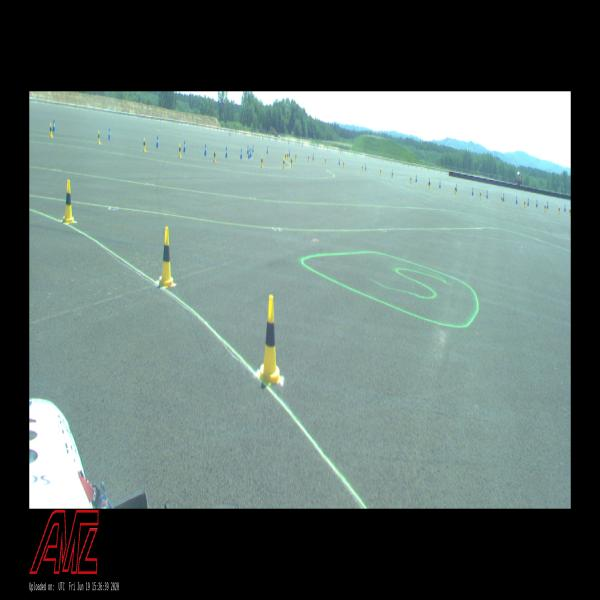blue_cone: (52, 119, 56, 132), (225, 146, 228, 158), (156, 136, 159, 148), (204, 144, 207, 155), (108, 128, 111, 139), (183, 141, 186, 152), (471, 187, 474, 195), (240, 148, 242, 159), (248, 149, 250, 159), (250, 148, 252, 157), (247, 145, 249, 154), (439, 180, 441, 188), (516, 196, 518, 204), (252, 144, 254, 152), (527, 198, 529, 206), (486, 190, 488, 198), (536, 199, 538, 206), (428, 178, 430, 185), (415, 175, 417, 182), (564, 205, 566, 211), (267, 146, 268, 154), (503, 194, 504, 202), (456, 184, 457, 192), (547, 202, 548, 209), (339, 158, 340, 165)
yellow_cone: (258, 295, 282, 385), (158, 227, 175, 287), (61, 179, 75, 224), (49, 122, 53, 138), (97, 130, 101, 144), (143, 137, 146, 151), (213, 149, 216, 162), (178, 144, 181, 157), (261, 154, 263, 168), (283, 157, 285, 169), (524, 199, 526, 208), (569, 207, 571, 216), (295, 152, 297, 160), (558, 206, 560, 214), (544, 204, 546, 212), (410, 176, 412, 184), (501, 195, 503, 203), (391, 172, 393, 178), (291, 158, 292, 168), (287, 150, 288, 160), (480, 190, 481, 200), (362, 164, 363, 172), (343, 160, 344, 168), (308, 154, 309, 162), (285, 152, 286, 160), (380, 167, 381, 175), (455, 186, 456, 194), (429, 180, 430, 188), (325, 157, 326, 164)
